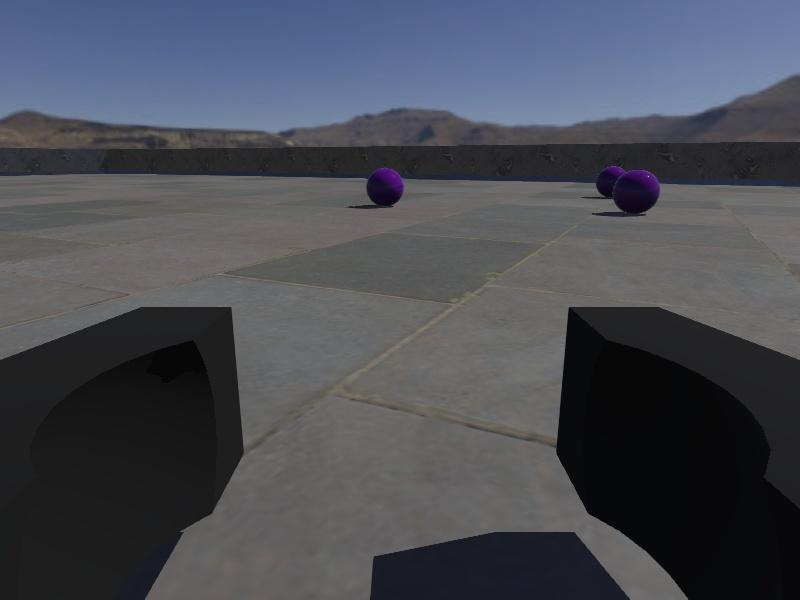violet ball: (612, 169, 661, 215), (367, 168, 404, 204)
